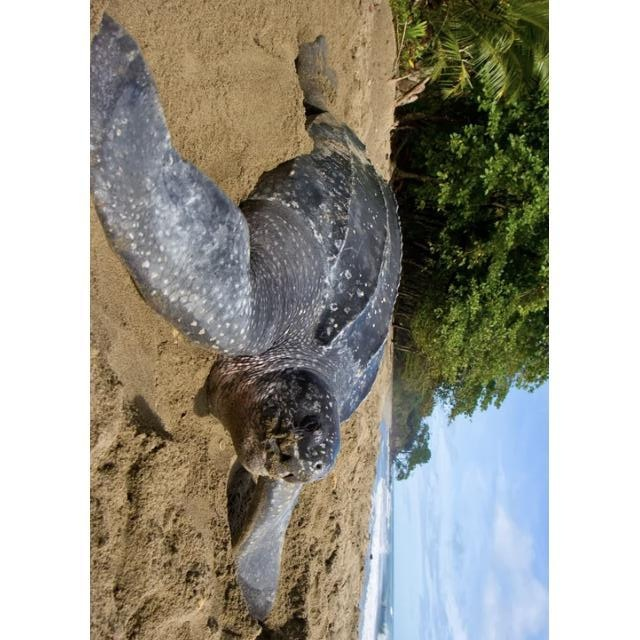turtle: (92, 13, 404, 621)
